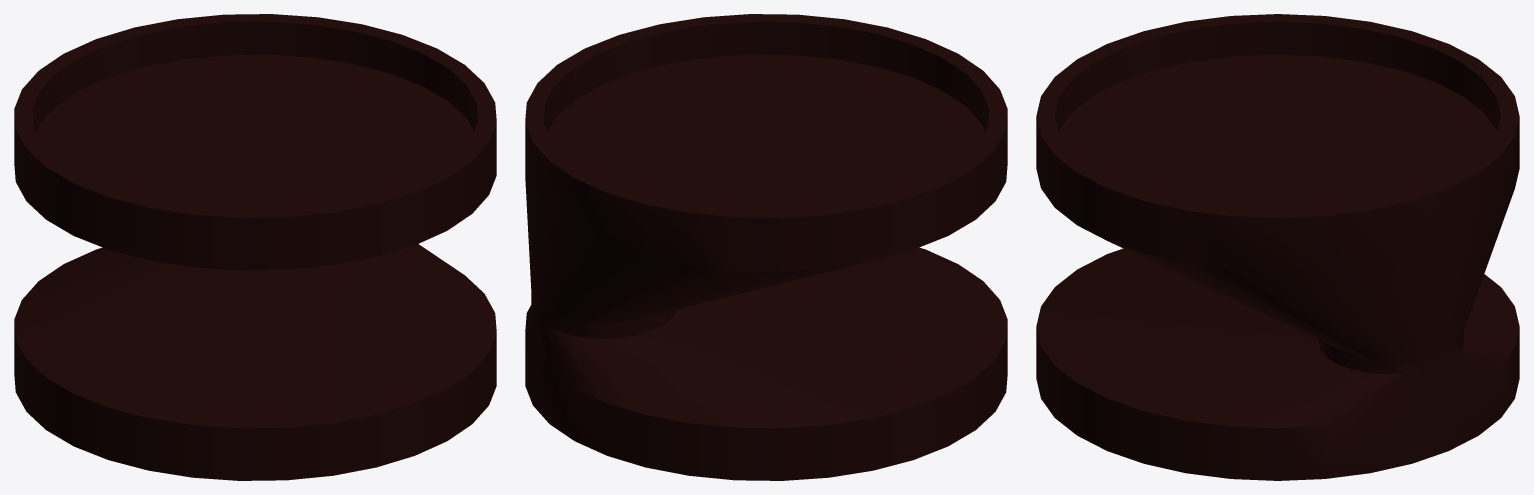
File: z3_jegi.obj
3 renders of one model, left to right at view 1: azimuth 30°, elevation 25°; view 2: azimuth 150°, elevation 25°; view 3: azimuth 270°, elevation 25°, orthographic.
Visible parts, largest first — view 1: Cylinder; view 2: Cylinder; view 3: Cylinder.
Part boxes in pixels (x1,y1,x2,y2): Cylinder: [14, 14, 496, 480]; Cylinder: [525, 14, 1007, 480]; Cylinder: [1036, 14, 1519, 480].
Bounding box in the file's own units: 0.2 × 0.12 × 0.2.
